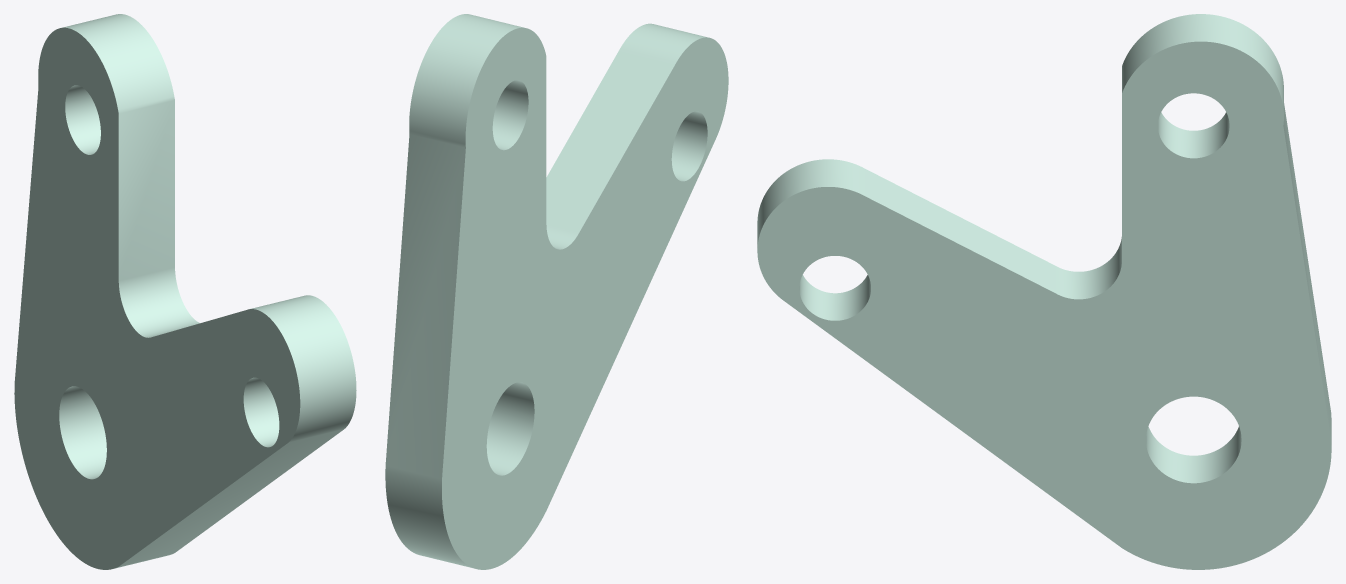
The picture shows the model from 3 angles, left to right: view 1: azimuth 30°, elevation 25°; view 2: azimuth 150°, elevation 25°; view 3: azimuth 270°, elevation 25°; orthographic projection.
Visible parts, largest first — view 1: Renderer Node; view 2: Renderer Node; view 3: Renderer Node.
Boxes of the visible parts, x1=… form: Renderer Node: x1=14, y1=14, x2=356, y2=569; Renderer Node: x1=385, y1=14, x2=728, y2=569; Renderer Node: x1=757, y1=14, x2=1331, y2=569.
Bounding box in the file's own units: 0.0781 × 0.6982 × 0.6875.
